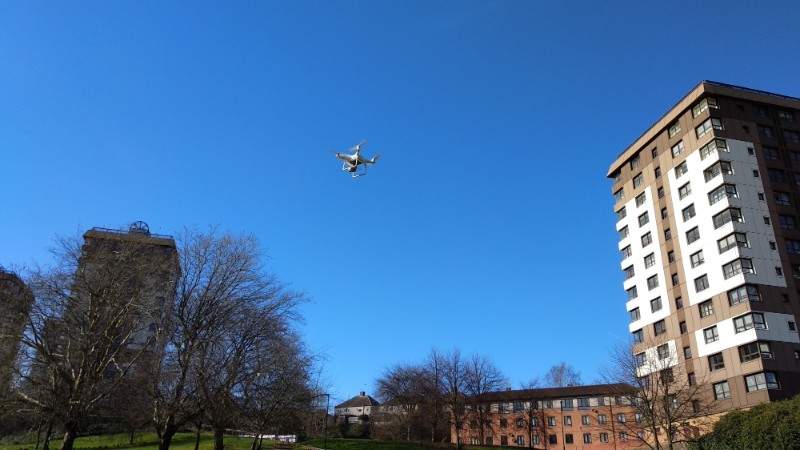drone: (330, 138, 385, 179)
